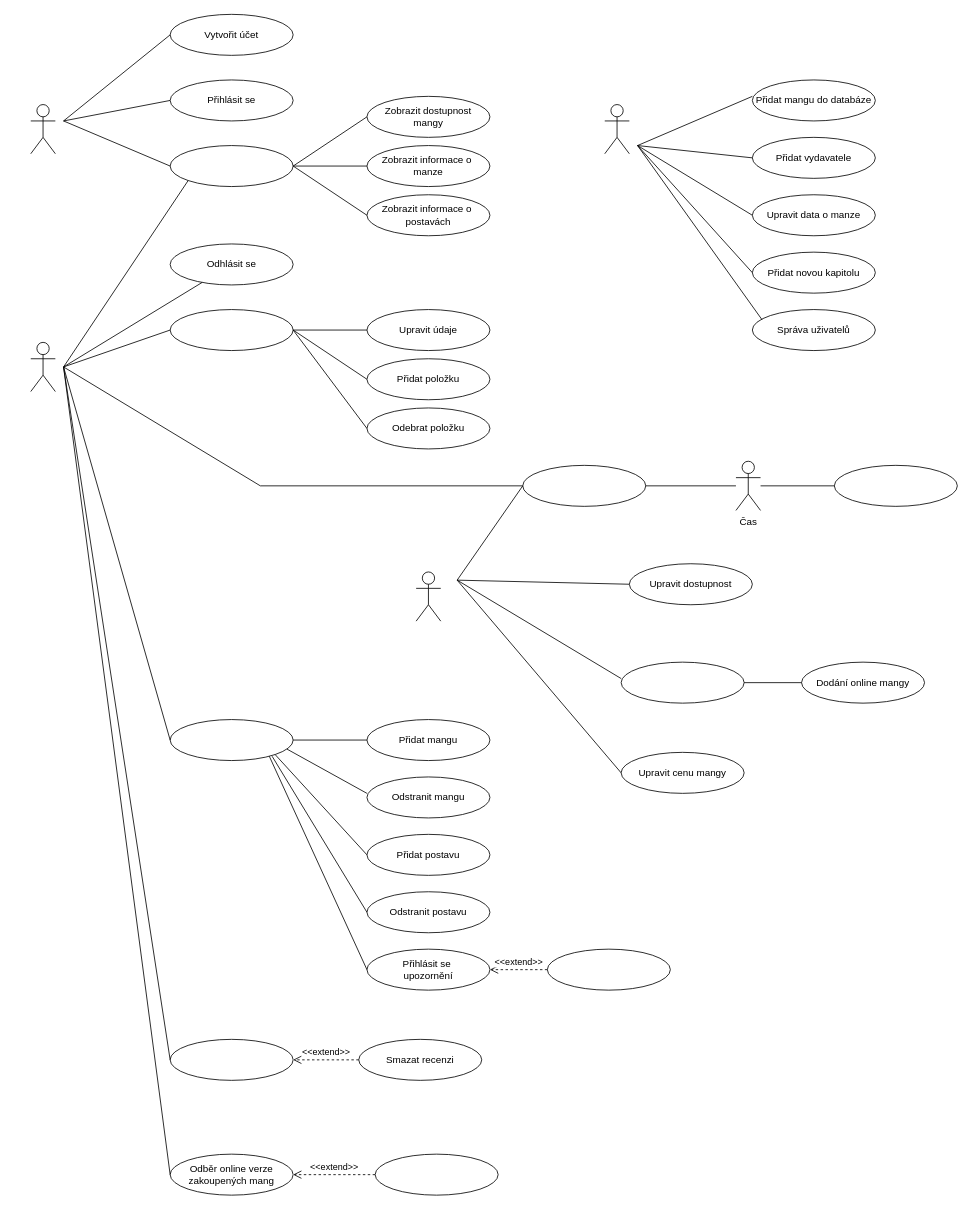
Image size: 972x1210. Some labels were removed from this diagram. The centre of each missing label's shape, as x and y in pixels:
"Dodaní objednávky" goes at (682,682).
"Nepřihlášený uživatel" goes at (42,129).
"Poslat notifikaci o nové kapitole" goes at (895,485).
"Prodejna" goes at (428,596).
"Publikovat recenzi" goes at (231,1059).
"Správce" goes at (616,129).
"Uživatel" goes at (42,367).
"Vyhledat Mangu / filtr" goes at (231,166).
"Vytvořit objednávku" goes at (231,330).
"Vytvořit oblíbený list" goes at (231,740).
"Zrušit dostávání upozornění" goes at (608,969).
"Zrušit objednávku" goes at (584,485).
"Zrušit odběr" goes at (436,1174).
